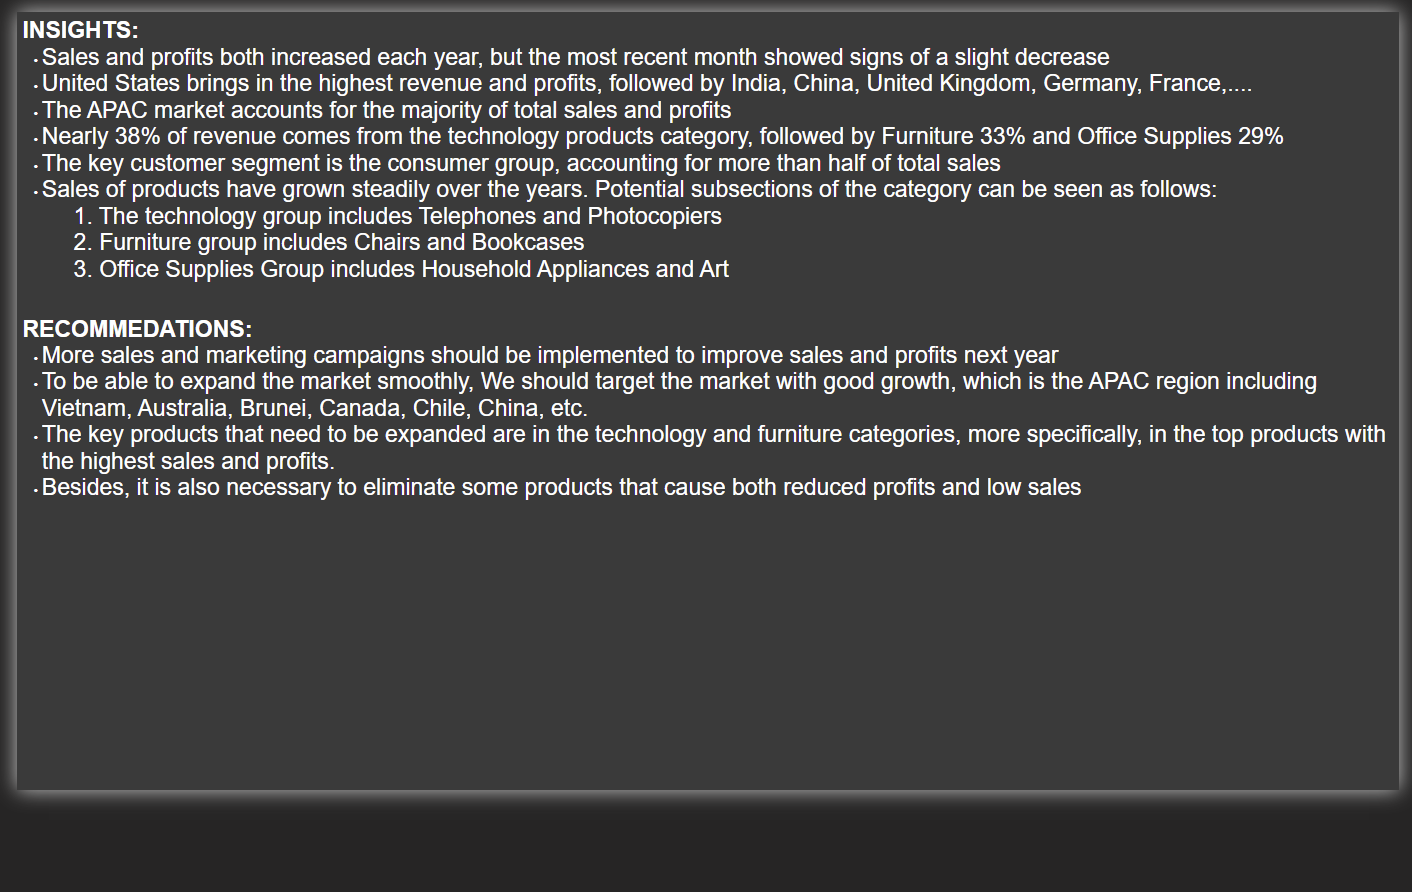

The dashboard page shown, as its layout file describes it:
{"tool":"powerbi","page":{"name":"Insight & Recommendation","canvas":[1280,720],"ordinal":2},"visuals":[{"type":"textbox","box":[0,0,1279.6,720.4],"z":0}]}

Visuals, with their boxes on the page's 1280x720 design canvas (x1, y1, x2, y2). These are canvas units, not pixel positions in the 1412x892 screenshot, which may show the page scaled, cropped or inside an application window:
textbox: (left=0, top=0, right=1280, bottom=720)
